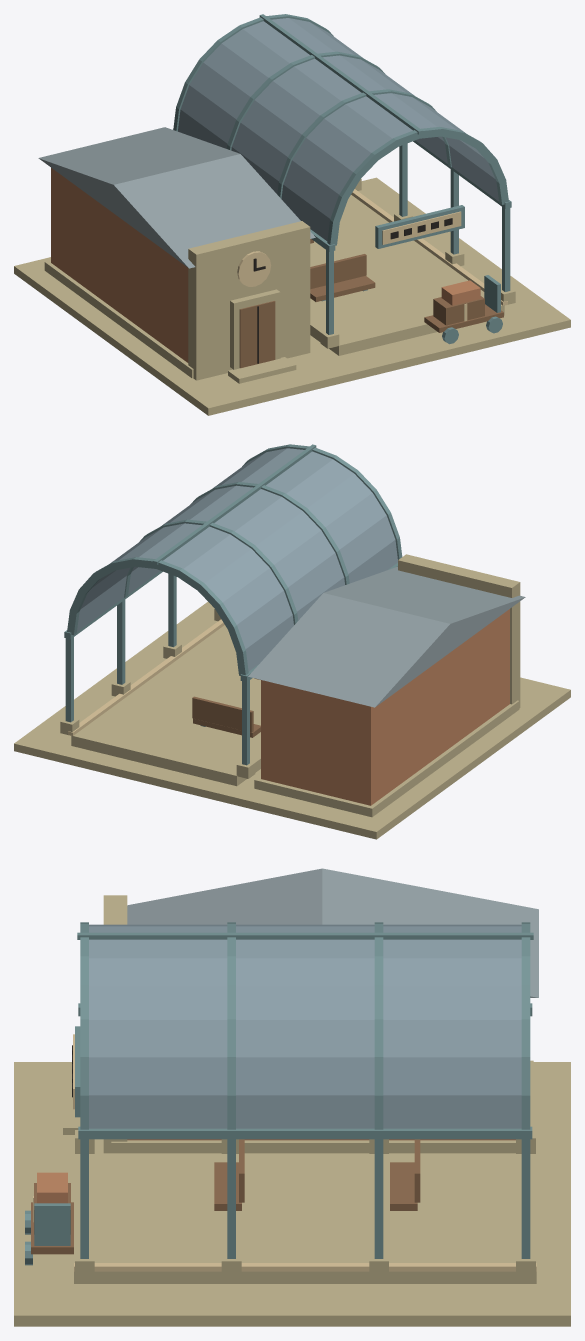
File: era2-station-tsZ_W569.glb
3 renders of one model, top to bottom at view 1: azimuth 30°, elevation 25°; view 2: azimuth 150°, elevation 25°; view 3: azimuth 270°, elevation 25°, orthographic. The views are drawn at different scales.
Parts seen in each view (by area): view 1: Terminus_GlassVault, Terminus_HallRoof, Terminus_Forecourt, Terminus_TicketHall, Terminus_EntranceFrame, Terminus_Platform, Terminus_IronRib3, TerminusDoor, Terminus_HallPlinth, TerminusPortal, Terminus_Ridge, Terminus_IronRib2 (+17 smaller); view 2: Terminus_GlassVault, Terminus_TicketHall, Terminus_HallRoof, Terminus_Forecourt, Terminus_Platform, Terminus_EntranceFrame, Terminus_HallPlinth, Terminus_IronRib0, Terminus_PlatformEdge, Terminus_RearBenchBack, Terminus_Ridge, Terminus_IronRib1 (+6 smaller); view 3: Terminus_GlassVault, Terminus_Platform, Terminus_Forecourt, Terminus_HallRoof, Terminus_CanopyBeam.001, Terminus_HallPlinth, Terminus_Ridge, Terminus_PlatformEdge, Terminus_IronRib0, Terminus_IronRib1, Terminus_IronRib2, Terminus_IronRib3 (+12 smaller).
Boxes of the visible parts, x1=… form: Terminus_GlassVault: x1=178, y1=18, x2=498, y2=240; Terminus_HallRoof: x1=38, y1=127, x2=315, y2=268; Terminus_Forecourt: x1=14, y1=177, x2=570, y2=415; Terminus_TicketHall: x1=51, y1=168, x2=188, y2=362; Terminus_EntranceFrame: x1=188, y1=221, x2=310, y2=380; Terminus_Platform: x1=310, y1=195, x2=504, y2=355; Terminus_IronRib3: x1=327, y1=126, x2=508, y2=245; TerminusDoor: x1=239, y1=301, x2=275, y2=368; Terminus_HallPlinth: x1=44, y1=260, x2=193, y2=378; TerminusPortal: x1=230, y1=289, x2=280, y2=369; Terminus_Ridge: x1=259, y1=14, x2=422, y2=134; Terminus_IronRib2: x1=277, y1=89, x2=451, y2=198; Terminus_GlassVault: x1=77, y1=448, x2=397, y2=671; Terminus_TicketHall: x1=261, y1=609, x2=509, y2=805; Terminus_HallRoof: x1=248, y1=566, x2=525, y2=707; Terminus_Forecourt: x1=14, y1=602, x2=570, y2=839; Terminus_Platform: x1=71, y1=625, x2=260, y2=786; Terminus_EntranceFrame: x1=398, y1=554, x2=520, y2=708; Terminus_HallPlinth: x1=254, y1=700, x2=519, y2=817; Terminus_IronRib0: x1=67, y1=557, x2=248, y2=675; Terminus_PlatformEdge: x1=68, y1=619, x2=224, y2=735; Terminus_RearBenchBack: x1=192, y1=696, x2=253, y2=732; Terminus_Ridge: x1=153, y1=444, x2=316, y2=564; Terminus_IronRib1: x1=124, y1=519, x2=298, y2=624; Terminus_GlassVault: x1=89, y1=924, x2=521, y2=1128; Terminus_Platform: x1=74, y1=1153, x2=536, y2=1283; Terminus_Forecourt: x1=14, y1=1062, x2=570, y2=1326; Terminus_HallRoof: x1=127, y1=868, x2=538, y2=997; Terminus_CanopyBeam.001: x1=78, y1=1126, x2=532, y2=1139; Terminus_HallPlinth: x1=111, y1=1060, x2=533, y2=1153; Terminus_Ridge: x1=77, y1=932, x2=533, y2=939; Terminus_PlatformEdge: x1=74, y1=1263, x2=536, y2=1271; Terminus_IronRib0: x1=521, y1=922, x2=530, y2=1129; Terminus_IronRib1: x1=374, y1=922, x2=383, y2=1129; Terminus_IronRib2: x1=227, y1=922, x2=235, y2=1129; Terminus_IronRib3: x1=80, y1=922, x2=88, y2=1129.
Size of the model in its own units: 14 by 7.8 by 13.
